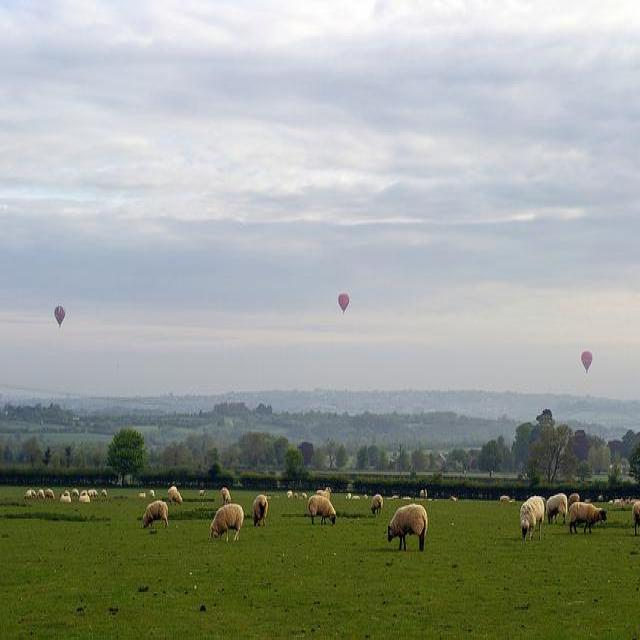Sheep: (24, 482, 639, 548)
